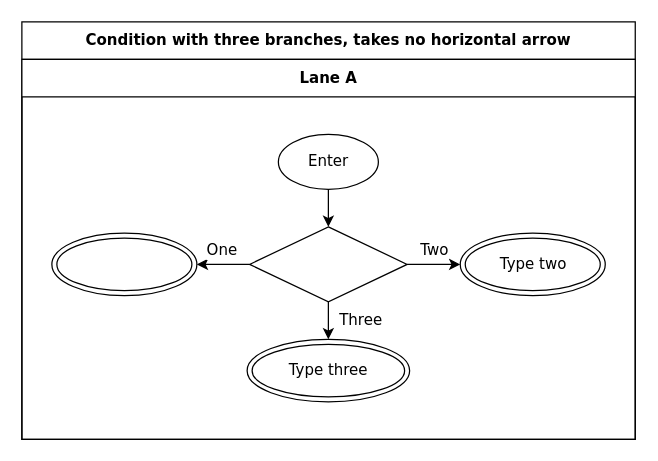
Image size: 658x461. Some labels were removed from this diagram. The shapes that lost their labels are listed below. From the top down, each one's centre as x and y in pixels, then its label:
At point 124,264: "Type one".
At point 327,264: "What type?".
